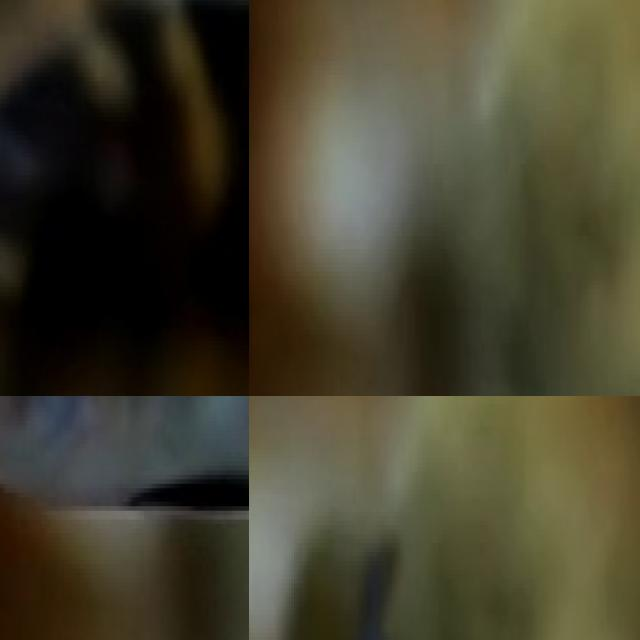fish: (0, 0, 249, 396), (249, 449, 640, 640)
